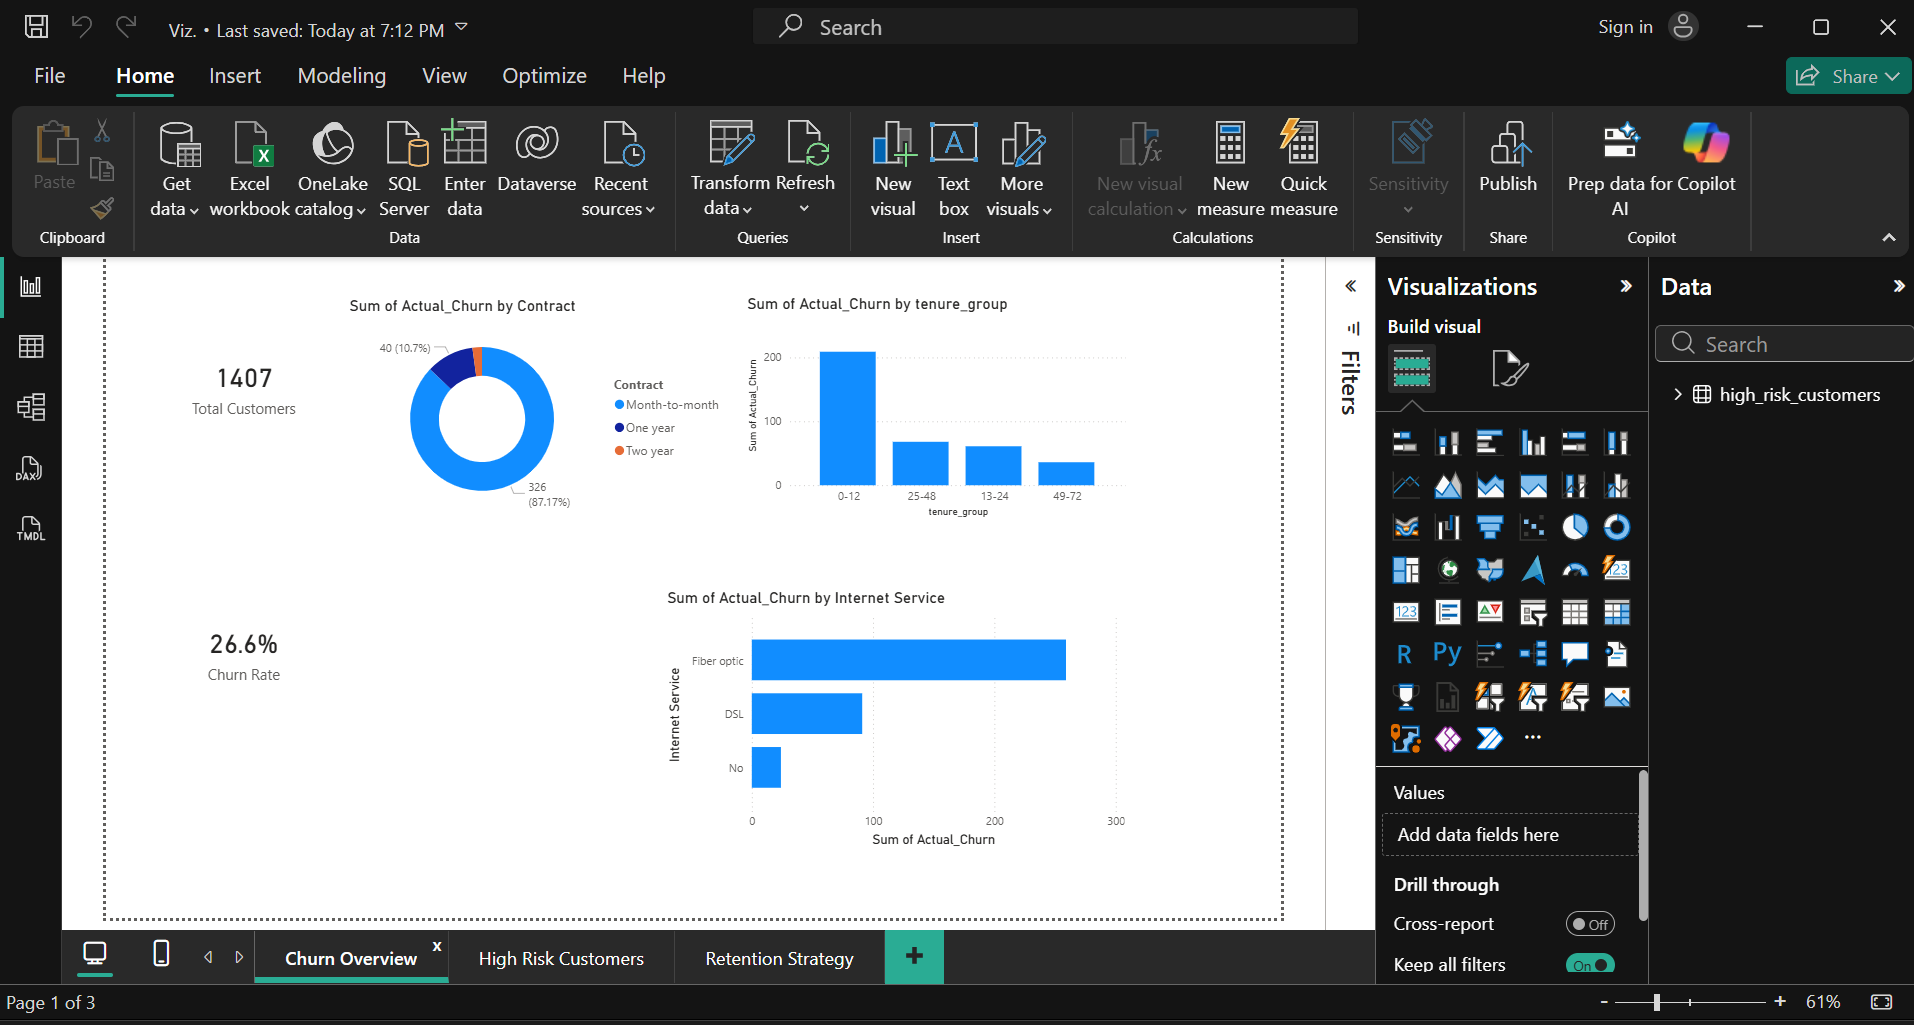

This screenshot's page, from the dashboard's own definition file:
{"tool":"powerbi","page":{"name":"Churn Overview","canvas":[1280,720],"ordinal":0},"visuals":[{"type":"card","fields":{"Values":["high_risk_customers.Total Customers"]},"box":[10,0,280,280],"z":0},{"type":"card","fields":{"Values":["high_risk_customers.Churn Rate"]},"box":[10,290,280,280],"z":1000},{"type":"donutChart","fields":{"Category":["high_risk_customers.Contract"],"Y":["Sum(high_risk_customers.Actual_Churn)"]},"box":[260.8,42.2,421.9,247.4],"z":2000},{"type":"clusteredColumnChart","fields":{"Category":["high_risk_customers.tenure_group"],"Y":["Sum(high_risk_customers.Actual_Churn)"]},"box":[693,42,422,247],"z":3000},{"type":"barChart","fields":{"Category":["high_risk_customers.Internet Service"],"Y":["Sum(high_risk_customers.Actual_Churn)"]},"box":[606,360.5,508.2,285.7],"z":4000}]}

Visuals, with their boxes on the page's 1280x720 design canvas (x1, y1, x2, y2). These are canvas units, not pixel positions in the 1914x1025 screenshot, which may show the page scaled, cropped or inside an application window:
card - high_risk_customers.Total Customers: <region>10, 0, 290, 280</region>
card - high_risk_customers.Churn Rate: <region>10, 290, 290, 570</region>
donutChart - high_risk_customers.Contract x Sum(high_risk_customers.Actual_Churn): <region>261, 42, 683, 290</region>
clusteredColumnChart - high_risk_customers.tenure_group x Sum(high_risk_customers.Actual_Churn): <region>693, 42, 1115, 289</region>
barChart - high_risk_customers.Internet Service x Sum(high_risk_customers.Actual_Churn): <region>606, 360, 1114, 646</region>
